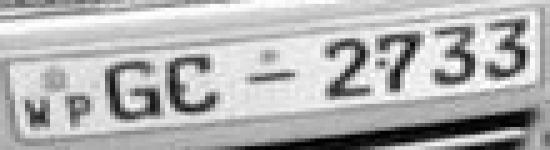-: (238, 66, 302, 88)
2: (314, 33, 376, 100)
3: (426, 23, 482, 90), (480, 16, 532, 82)
7: (374, 28, 428, 95)
C: (167, 50, 225, 119)
G: (100, 56, 166, 126)
P: (62, 87, 97, 133)
W: (20, 92, 56, 134)
